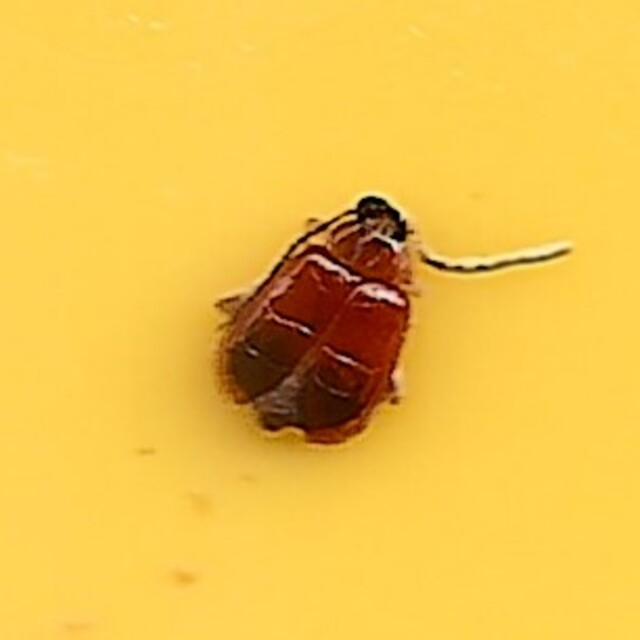Coleoptera: (209, 195, 431, 445)
